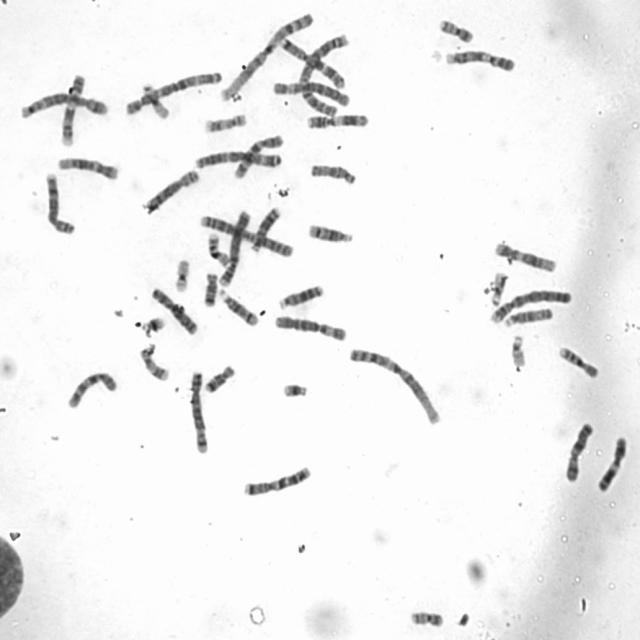A1: (214, 7, 317, 102), (344, 342, 444, 426)
A2: (296, 29, 351, 118), (195, 211, 296, 258)
A3: (120, 65, 224, 117), (190, 144, 283, 170)
B4: (485, 283, 574, 326), (215, 204, 252, 287)
B5: (15, 88, 110, 120), (185, 365, 211, 455)
C10: (230, 129, 285, 180), (62, 366, 119, 410)
C11: (593, 431, 630, 494), (302, 108, 370, 130)
C12: (490, 236, 559, 273), (53, 150, 120, 180)
C6: (268, 74, 352, 110), (270, 309, 348, 343)
C7: (275, 34, 348, 88), (239, 460, 313, 497)
C8: (139, 164, 201, 214), (39, 167, 77, 236)
C9: (56, 68, 87, 148), (439, 43, 516, 73)
D13: (247, 202, 283, 254), (274, 278, 325, 310)
D14: (214, 284, 260, 327), (303, 218, 355, 245)
D15: (306, 158, 358, 186), (499, 302, 555, 327)
E16: (554, 340, 601, 380), (204, 228, 232, 268)
E17: (135, 339, 171, 383), (199, 108, 249, 134)
E18: (199, 359, 237, 394), (198, 267, 219, 308)
F19: (138, 78, 170, 120), (170, 253, 192, 294)
F20: (434, 12, 476, 44), (406, 604, 445, 628)
G21: (277, 377, 310, 399), (138, 312, 167, 336)
G22: (486, 266, 509, 307), (506, 329, 528, 368)
X: (147, 282, 200, 336), (561, 416, 596, 484)
